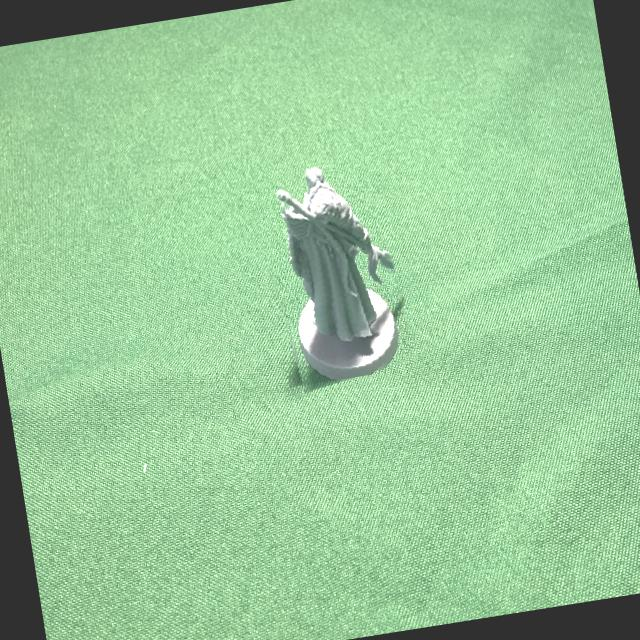isis_follower: (248, 152, 417, 392)
